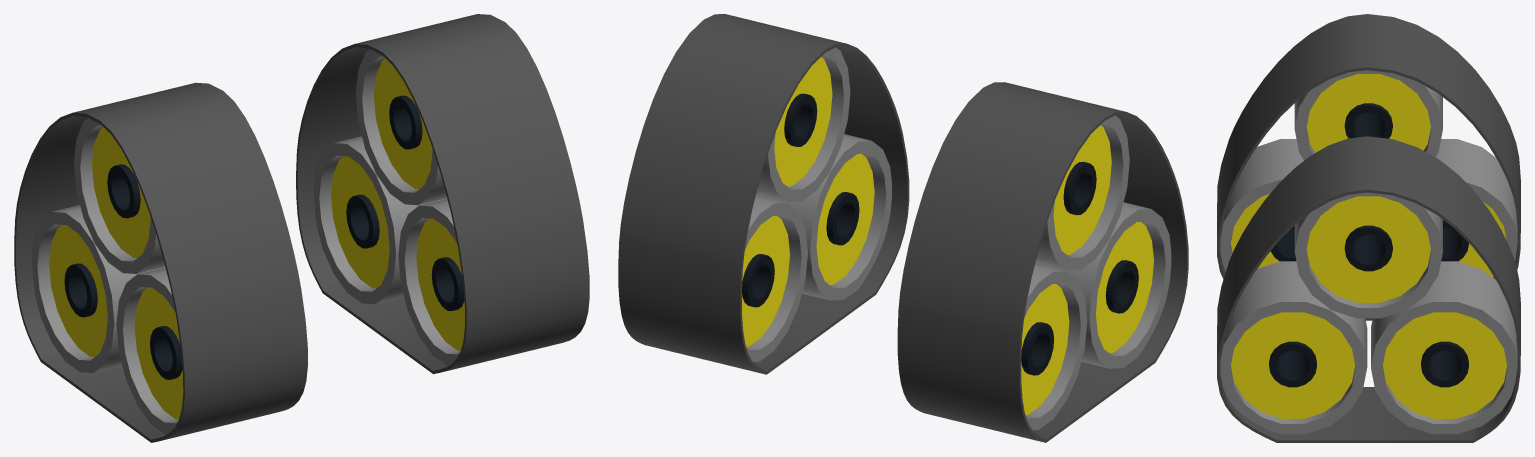
Rendered from Speed1.FBX.
3 views of the same model, side by side, from view 1: azimuth 30°, elevation 25°; view 2: azimuth 150°, elevation 25°; view 3: azimuth 270°, elevation 25° (orthographic). The views are drawn at different scales.
Parts seen in each view (by area): view 1: Speed_1; view 2: Speed_1; view 3: Speed_1.
Boxes of the visible parts, x1=… form: Speed_1: x1=14, y1=14, x2=589, y2=442; Speed_1: x1=618, y1=14, x2=1188, y2=442; Speed_1: x1=1217, y1=14, x2=1520, y2=442.
Bounding box in the file's own units: 0.7173 × 0.4819 × 0.5238.
